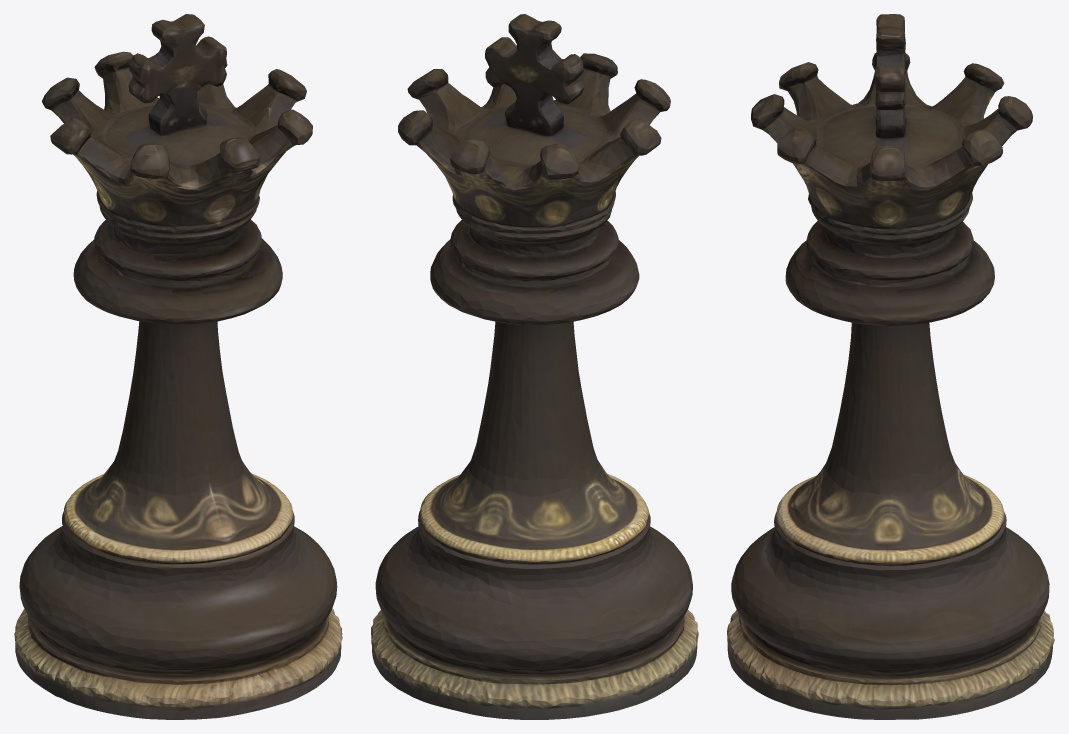
Rendered from Faz_me_uma_peça_de_x_0708151426_texture.fbx.
3 views of the same model, side by side, from view 1: azimuth 30°, elevation 25°; view 2: azimuth 150°, elevation 25°; view 3: azimuth 270°, elevation 25° (orthographic).
Parts seen in each view (by area): view 1: temp; view 2: temp; view 3: temp.
Part boxes in pixels (x1=…): temp: x1=14, y1=14, x2=342, y2=719; temp: x1=371, y1=14, x2=698, y2=719; temp: x1=727, y1=14, x2=1054, y2=719.
Size of the model in its own units: 94.17 by 200 by 94.41.
Materials: 1 (1 with a texture image).
